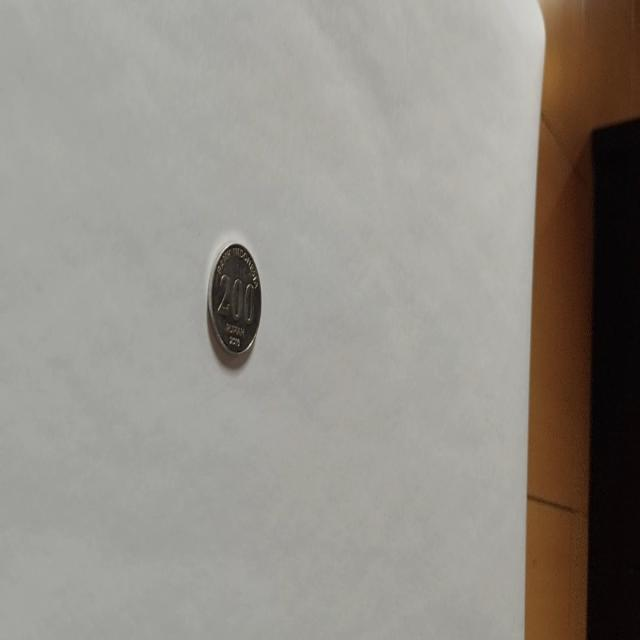dua ratus rupiah: (206, 240, 262, 358)
